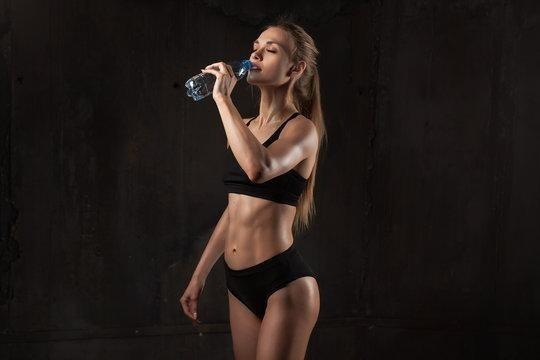gym bottle: (184, 59, 251, 101)
